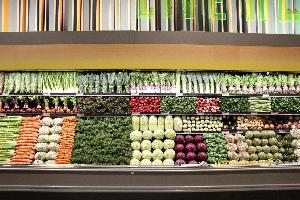carrot: (14, 115, 40, 162), (56, 116, 76, 163)
radish: (131, 96, 159, 112), (196, 96, 220, 112)
